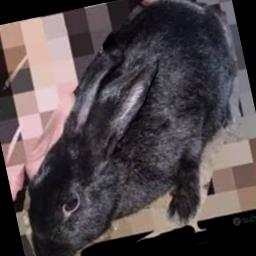rabbit: (23, 0, 237, 256)
